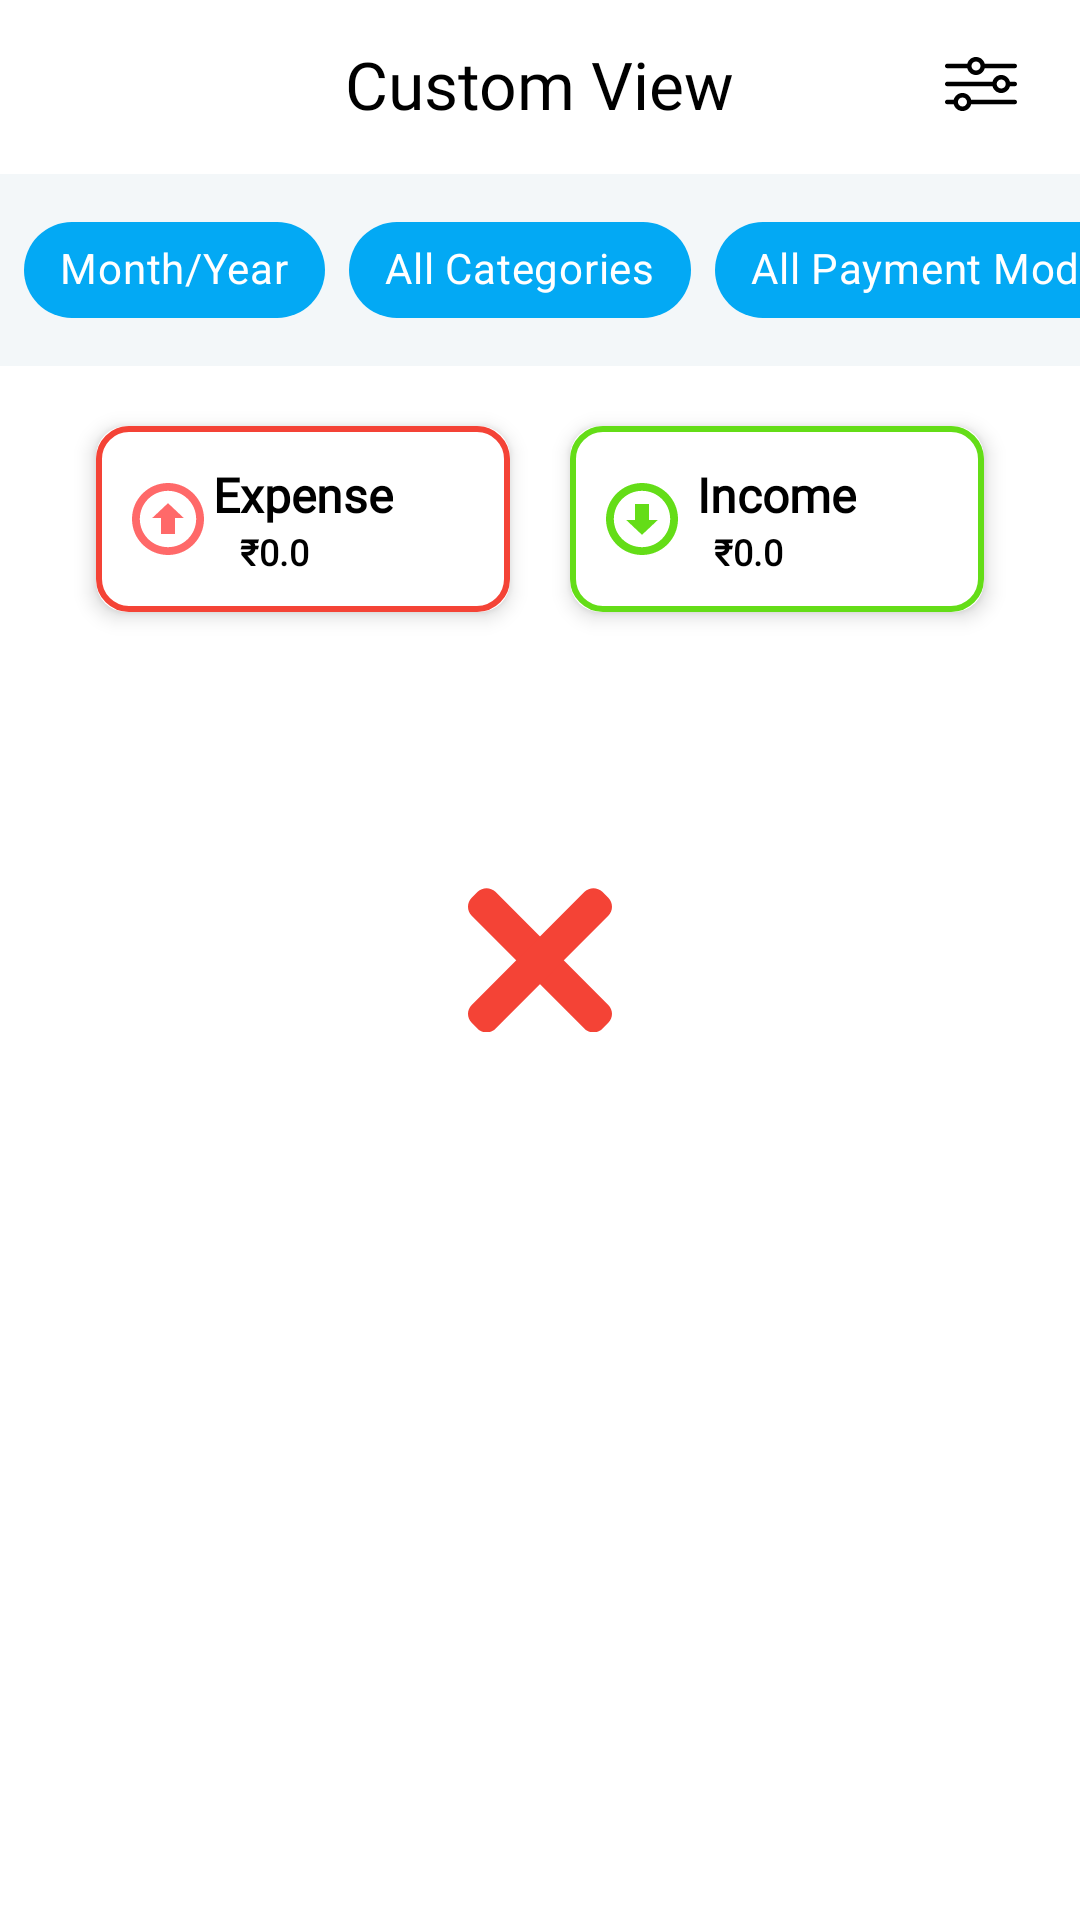

Screen size 1080x1920. Icon name, then its center in pixels as (x=x, y=y):
download: (x=642, y=519)
list filter: (x=981, y=84)
upload: (x=168, y=519)
